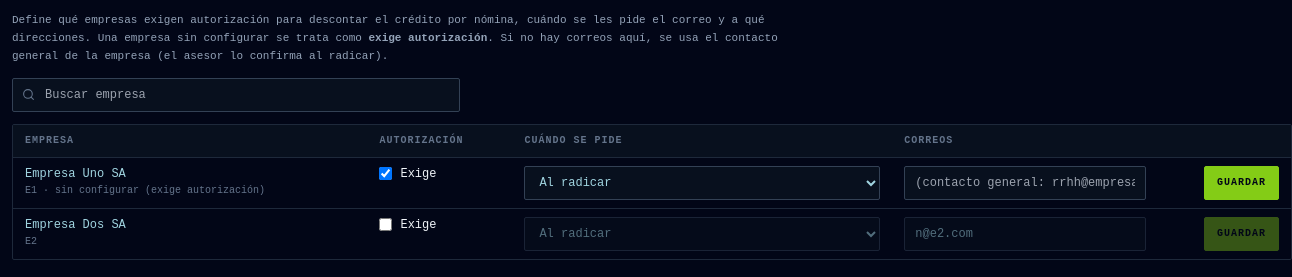
it: Configuración de empresas › una empresa que no exige autorización tiene deshabilitados el momento y los correos
Expected: the text "Empresa Dos SA" is shown, 25,218 -> 126,232
Expected: the dropdown in the row of "Empresa Dos SA" is disabled, 524,217 -> 880,251
Click the checkbox labelled "Exige" in the row of "Empresa Dos SA" at (386, 225), box 379,218 -> 392,231
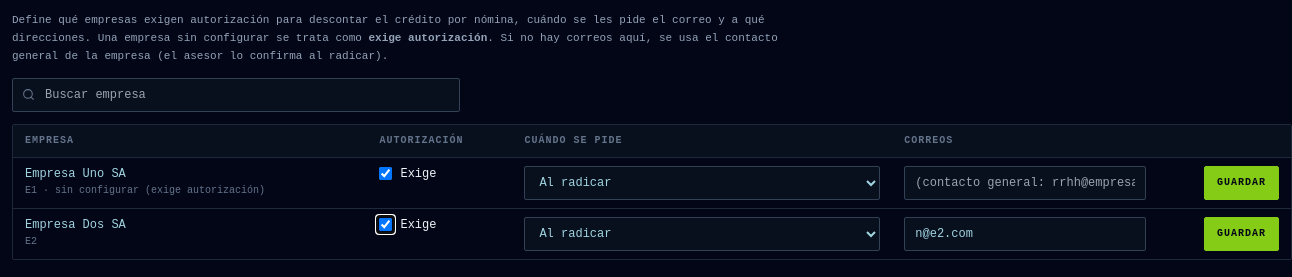
Expected: the dropdown in the row of "Empresa Dos SA" is enabled, 524,217 -> 880,251
